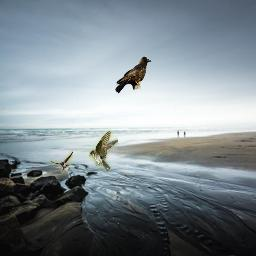Crow: (115, 55, 152, 95)
Swallow: (89, 131, 118, 171), (50, 150, 73, 173)
